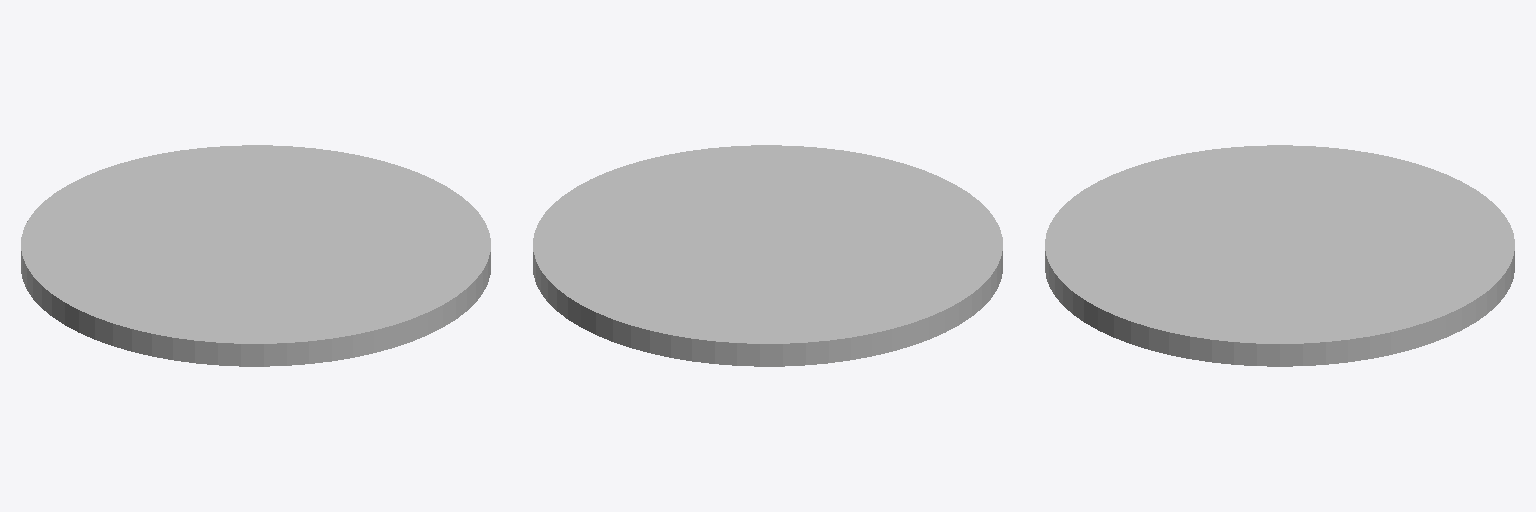
File: highlightRound.obj
3 views of the same model, side by side, from view 1: azimuth 30°, elevation 25°; view 2: azimuth 150°, elevation 25°; view 3: azimuth 270°, elevation 25° (orthographic).
Parts seen in each view (by area): view 1: HighlightRound_Highlight_Cube.002; view 2: HighlightRound_Highlight_Cube.002; view 3: HighlightRound_Highlight_Cube.002.
Part boxes in pixels (x1,y1,x2,y2): HighlightRound_Highlight_Cube.002: (21,145,490,366); HighlightRound_Highlight_Cube.002: (533,145,1002,366); HighlightRound_Highlight_Cube.002: (1045,145,1514,366).
Bounding box in the file's own units: 0.7027 × 0.0375 × 0.7027.